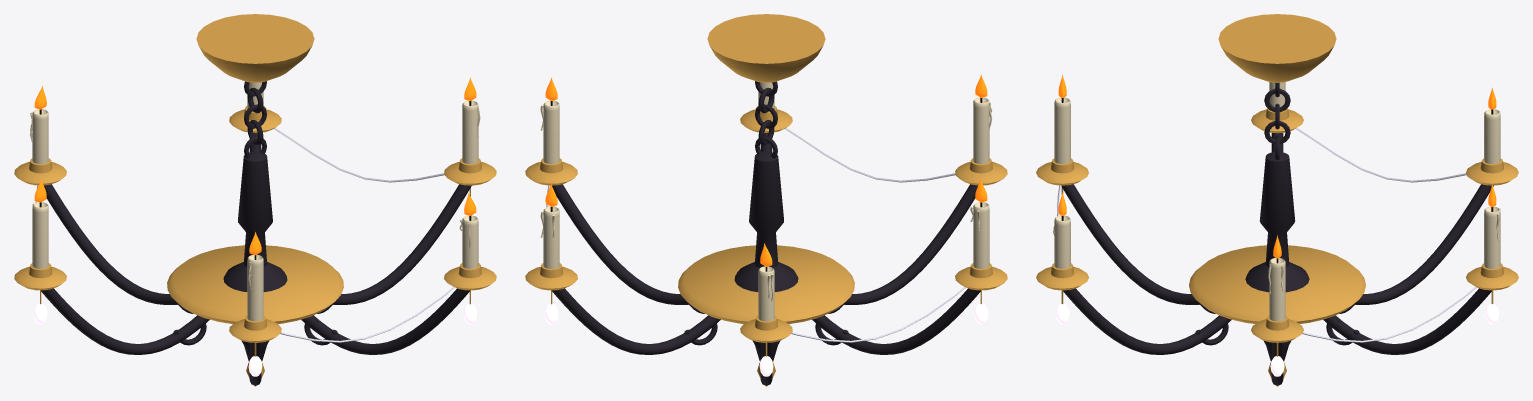
File: manor_chandelier.glb
The picture shows the model from 3 angles, left to right: view 1: azimuth 30°, elevation 25°; view 2: azimuth 150°, elevation 25°; view 3: azimuth 270°, elevation 25°; orthographic projection.
Parts seen in each view (by area): view 1: Chandelier; view 2: Chandelier; view 3: Chandelier.
Boxes of the visible parts, x1=… form: Chandelier: x1=14, y1=14, x2=496, y2=386; Chandelier: x1=525, y1=14, x2=1007, y2=386; Chandelier: x1=1036, y1=14, x2=1518, y2=386.
Bounding box in the file's own units: 0.93 × 0.65 × 0.8175.
